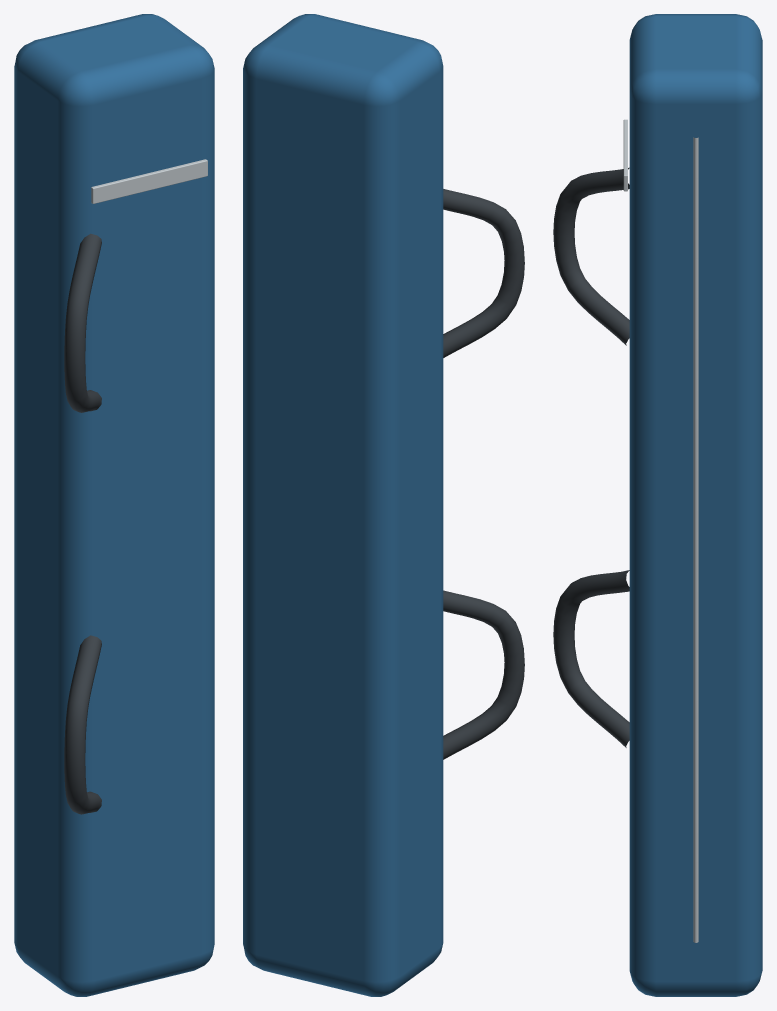
File: fencing-club-and-tournament-piste-weapon-bag-e068dc47__31234.glb
The picture shows the model from 3 angles, left to right: view 1: azimuth 30°, elevation 25°; view 2: azimuth 150°, elevation 25°; view 3: azimuth 270°, elevation 25°; orthographic projection.
Visible parts, largest first — view 1: weapon-bag; view 2: weapon-bag; view 3: weapon-bag.
Boxes of the visible parts, bbox=[...] form: weapon-bag: bbox=[14, 14, 214, 996]; weapon-bag: bbox=[243, 14, 524, 996]; weapon-bag: bbox=[553, 14, 762, 996].
Bounding box in the file's own units: 0.253 × 1.15 × 0.2357.
